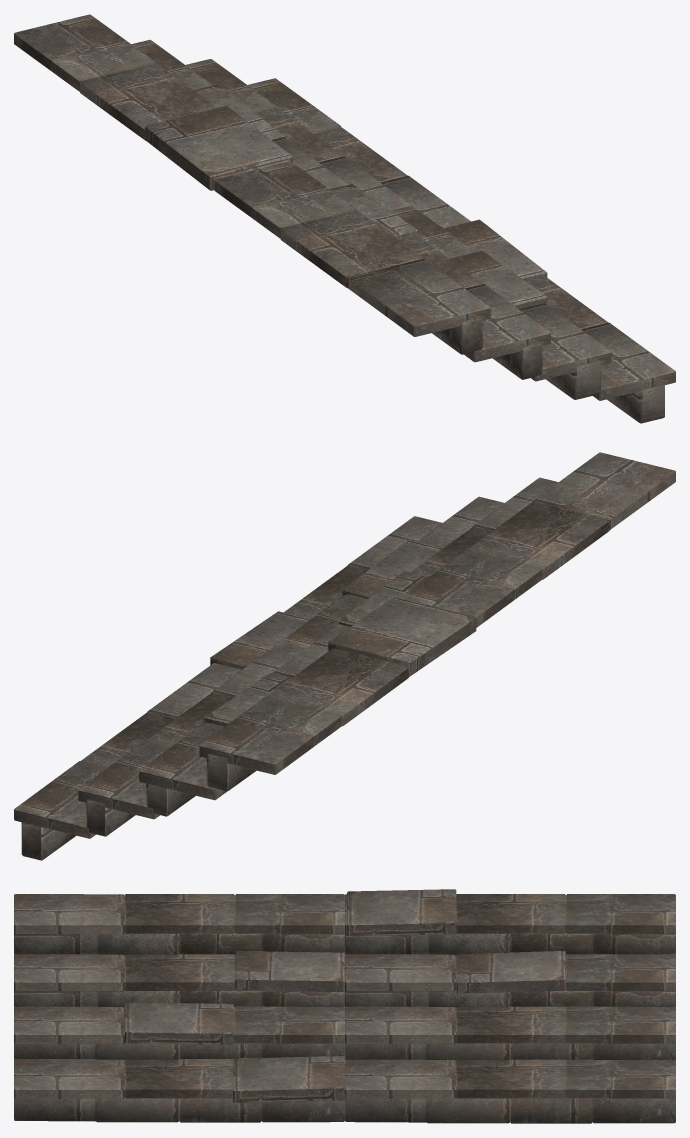
Rendered from SM_Stairs02.fbx.
3 renders of one model, top to bottom at view 1: azimuth 30°, elevation 25°; view 2: azimuth 150°, elevation 25°; view 3: azimuth 270°, elevation 25°, orthographic. The views are drawn at different scales.
Visible parts, largest first — view 1: SM_Stairs_02a; view 2: SM_Stairs_02a; view 3: SM_Stairs_02a.
Boxes of the visible parts, x1,y1,x2,y2 form: SM_Stairs_02a: (14, 14, 675, 423); SM_Stairs_02a: (14, 452, 675, 860); SM_Stairs_02a: (14, 889, 675, 1123).
Size of the model in its own units: 589 by 337 by 1524.
